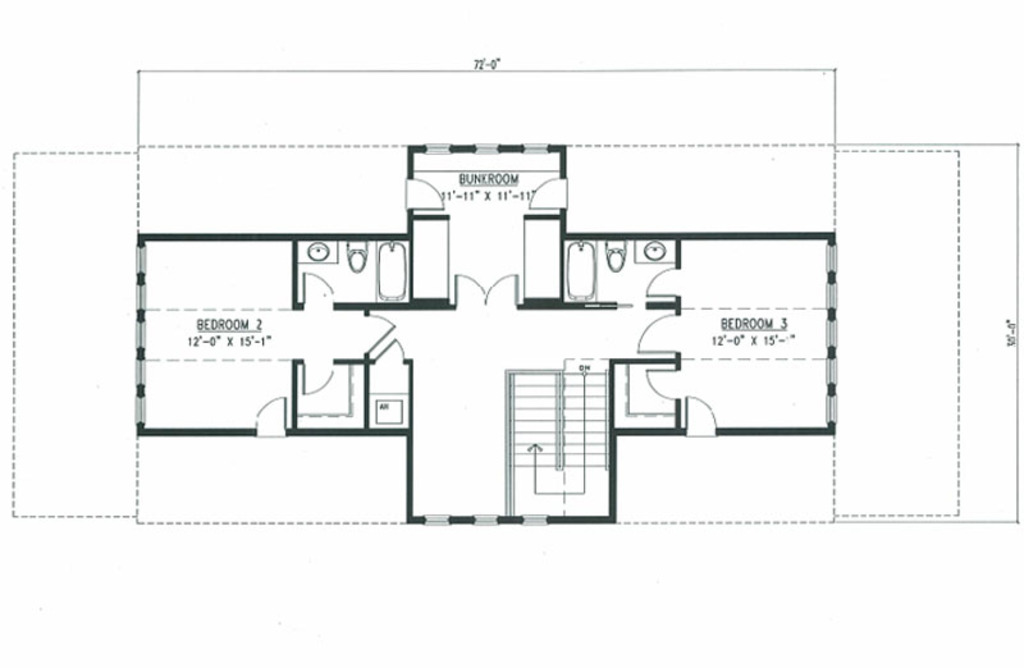door: (451, 272, 524, 311), (636, 309, 683, 355), (402, 174, 448, 212), (678, 393, 717, 437), (252, 395, 291, 436), (298, 357, 337, 395), (526, 175, 566, 210), (299, 271, 334, 308), (646, 366, 680, 401), (643, 267, 681, 298), (364, 313, 392, 355)
large_sink: (341, 235, 371, 281), (604, 240, 628, 271)
small_sink: (293, 235, 344, 267), (634, 235, 681, 267)
stairs: (504, 361, 609, 518)
tub: (375, 233, 411, 305), (563, 237, 602, 302)
windows: (821, 242, 842, 422), (134, 240, 149, 430), (415, 142, 558, 157), (415, 513, 556, 528)
